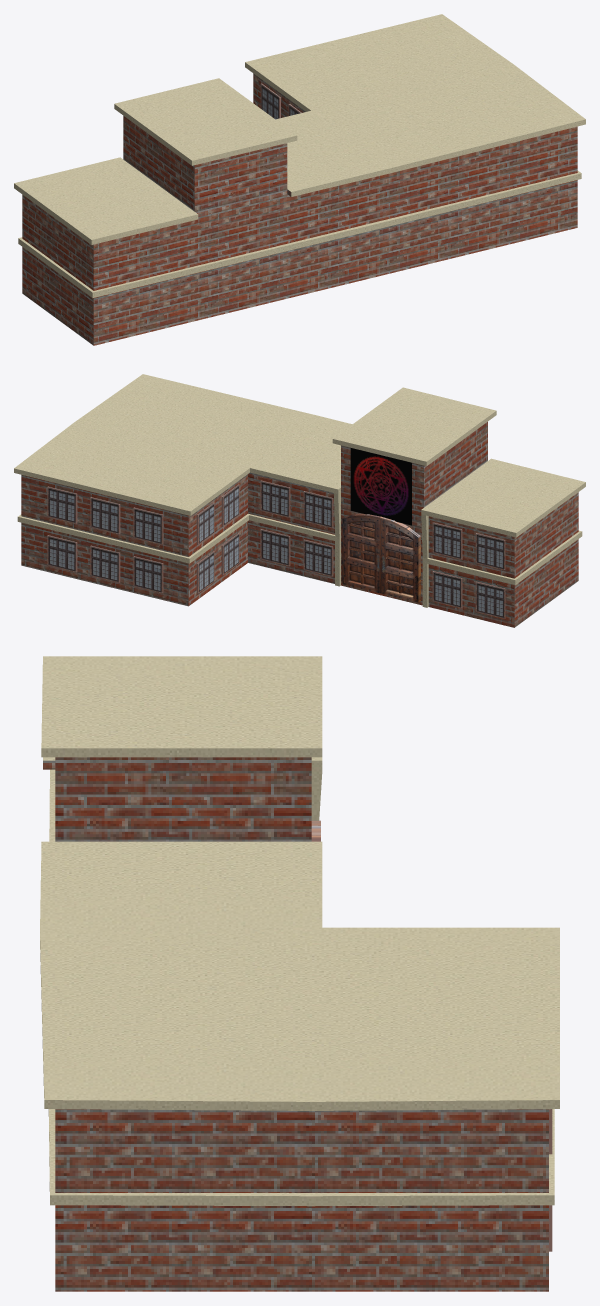
Rendered from School.fbx.
3 views of the same model, one above another, from view 1: azimuth 30°, elevation 25°; view 2: azimuth 150°, elevation 25°; view 3: azimuth 270°, elevation 25° (orthographic). The views are drawn at different scales.
Parts seen in each view (by area): view 1: School; view 2: School; view 3: School.
Part boxes in pixels (box(x1,y1,x2,y2)): School: box(14, 14, 585, 345); School: box(14, 374, 585, 627); School: box(40, 656, 559, 1291).
Size of the model in its own units: 2437 by 771 by 1233.
